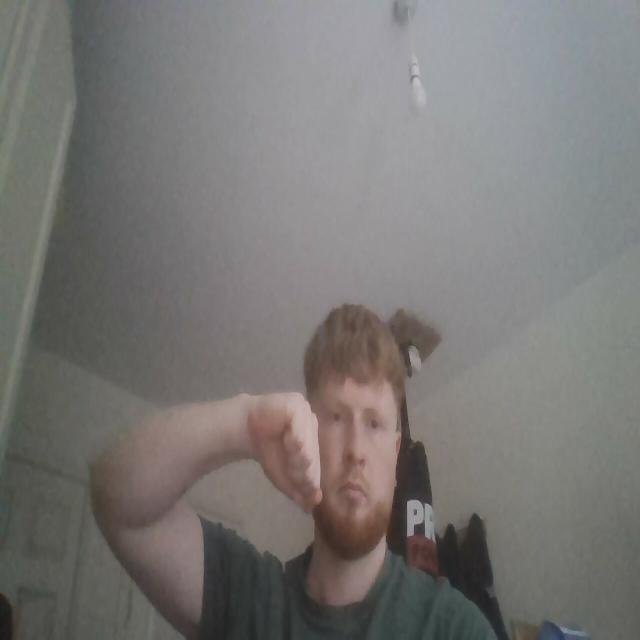rock: (240, 388, 324, 518)
